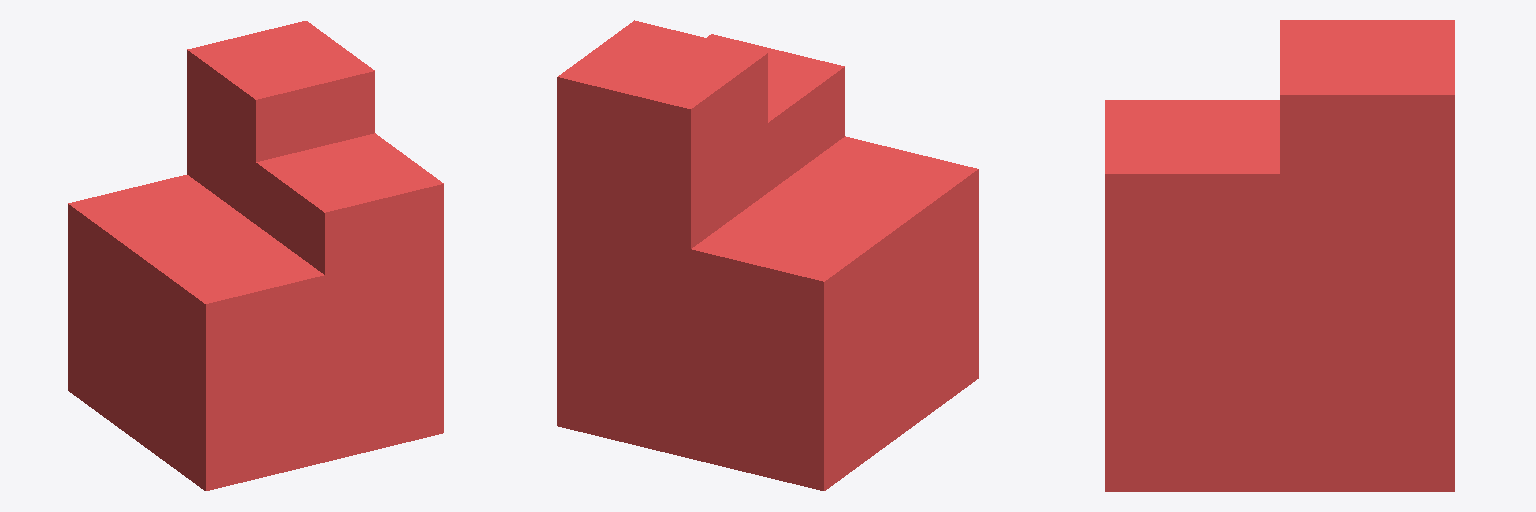
robot.urdf — environment:
<?xml version="1.0"?>
<robot name="environment">
  <material name="White">
    <color rgba="0.9 0.9 0.9 1"/>
  </material>
  <material name="Blue">
    <color rgba="0 0 1 1"/>
  </material>
  <material name="Red">
    <color rgba="1 0.4 0.4 1"/>
  </material>
  <material name="Green">
    <color rgba="0 1 0 1"/>
  </material>
  <material name="Gray">
    <color rgba="0.6 0.6 0.6 1"/>
  </material>
  <material name="Black"><!-- or brown-->
    <color rgba="0.2 0.1 0.1 1"/>
  </material>

  <link name="obstacle_base">
    <inertial>
      <origin xyz="0 0 0" rpy="0 0 0"/>
      <mass value="1.0" />
      <inertia  ixx="1.0" ixy="0.0"  ixz="0.0"  iyy="1.0"  iyz="0.0"  izz="1.0" />
    </inertial>
    <visual>
      <origin xyz="0 0 -0.1" rpy="0 0 0"/>
      <geometry>
        <box size="0.1 0.1 0.1"/>
      </geometry>
      <material name="White"/>
    </visual>
  </link>

  <joint name="j_one" type="fixed">
    <parent link="obstacle_base"/>
    <child link="l_one"/>
    <origin rpy="0 0 0" xyz="0 0 0"/>
  </joint>

  <link name="l_one">
    <inertial>
      <origin xyz="0 0 0" /> 
      <mass value="1.0" />
      <inertia  ixx="1.0" ixy="0.0"  ixz="0.0"  iyy="1.0"  iyz="0.0"  izz="1.0" />
    </inertial>
    <visual>
      <origin xyz="0 0 0"/>
      <geometry>
        <box size="8 8 6" /> 
      </geometry>
      <material name="Red"/>
    </visual>
    <collision>
      <origin xyz="0 0 0"/>
      <geometry>
        <box size="8 8 6" />
      </geometry>
    </collision>
  </link>
  
  <joint name="j_two" type="fixed">
    <parent link="obstacle_base"/>
    <child link="l_two"/>
    <origin rpy="0 0 0" xyz="2 -2 2"/>
  </joint>

  <link name="l_two">
    <inertial>
      <origin xyz="0 0 0" /> 
      <mass value="1.0" />
      <inertia  ixx="1.0" ixy="0.0"  ixz="0.0"  iyy="1.0"  iyz="0.0"  izz="1.0" />
    </inertial>
    <visual>
      <origin xyz="0 0 0"/>
      <geometry>
        <box size="4 4 6" />
      </geometry>
      <material name="Red"/>
    </visual>
    <collision>
      <origin xyz="0 0 0"/>
      <geometry>
        <box size="4 4 6" />
      </geometry>
    </collision>
  </link>
  
  <joint name="j_three" type="fixed">
    <parent link="obstacle_base"/>
    <child link="l_three"/>
    <origin rpy="0 0 0" xyz="2 2 4"/>
  </joint>

  <link name="l_three">
    <inertial>
      <origin xyz="0 0 0" /> 
      <mass value="1.0" />
      <inertia  ixx="1.0" ixy="0.0"  ixz="0.0"  iyy="1.0"  iyz="0.0"  izz="1.0" />
    </inertial>
    <visual>
      <origin xyz="0 0 0"/>
      <geometry>
        <box size="4 4 6" />
      </geometry>
      <material name="Red"/>
    </visual>
    <collision>
      <origin xyz="0 0 0"/>
      <geometry>
        <box size="4 4 6" />
      </geometry>
    </collision>
  </link>
</robot>

--- Render facts (derived) ---
3 views of the same robot in one strip: view 1: azimuth 30°, elevation 25°; view 2: azimuth 150°, elevation 25°; view 3: azimuth 270°, elevation 25° (orthographic).
Robot: environment — 4 links, 3 joints (3 fixed); root link obstacle_base; default pose: every joint at zero.
Visible links, largest first — view 1: l_one, l_three, l_two; view 2: l_one, l_three, l_two; view 3: l_one, l_three, l_two.
Boxes of the visible links, <box> form: l_one: <box>68,175,443,490</box>; l_three: <box>187,21,374,223</box>; l_two: <box>256,133,443,364</box>; l_one: <box>557,136,978,490</box>; l_three: <box>557,20,767,318</box>; l_two: <box>707,34,844,191</box>; l_one: <box>1105,253,1454,491</box>; l_three: <box>1280,20,1454,332</box>; l_two: <box>1105,100,1279,411</box>.
Bounding box of the posed robot: 8 × 8 × 10 m (x, y, z).
Geometry: primitives only (box / cylinder / sphere), no mesh files.